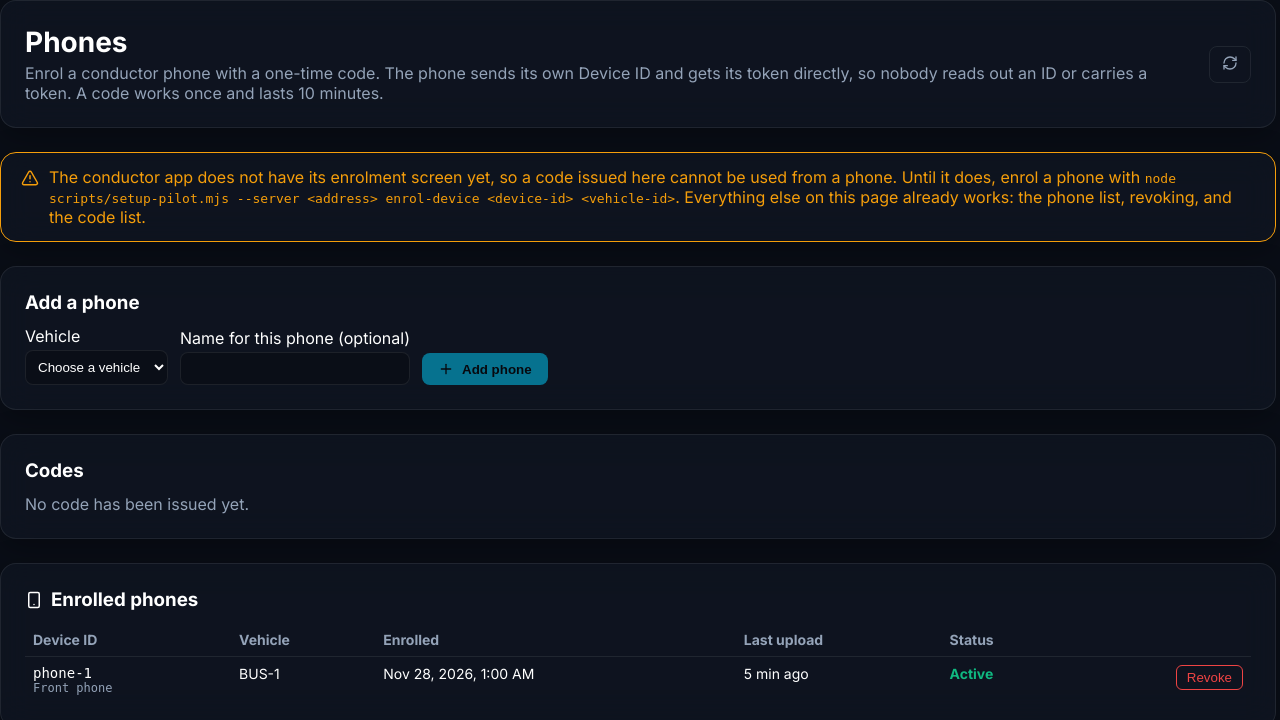
it: Phones: revoking needs a confirmation › sends nothing on the first click: it names the phone and warns that it cannot be undone
What coordinates should you click on to do the following:
click the button "Revoke"
I would click on:
 (1209, 678)
Its box is [1176, 665, 1243, 690].
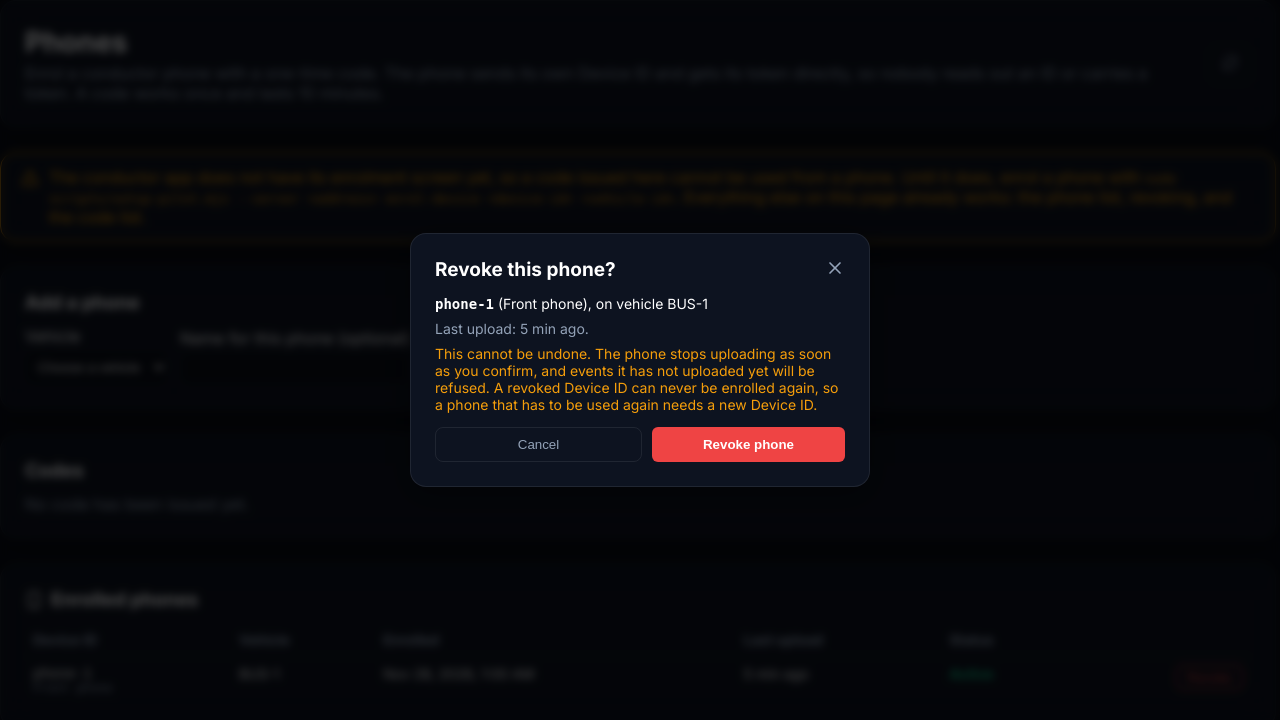
Now the text "phone-1" is shown, box [435, 296, 494, 312]
Now the text "phone-1 (Front phone), on vehicle BUS-1" is shown, box [435, 295, 708, 312]
Now the text "can never be enrolled again" is shown, box [435, 345, 838, 413]
